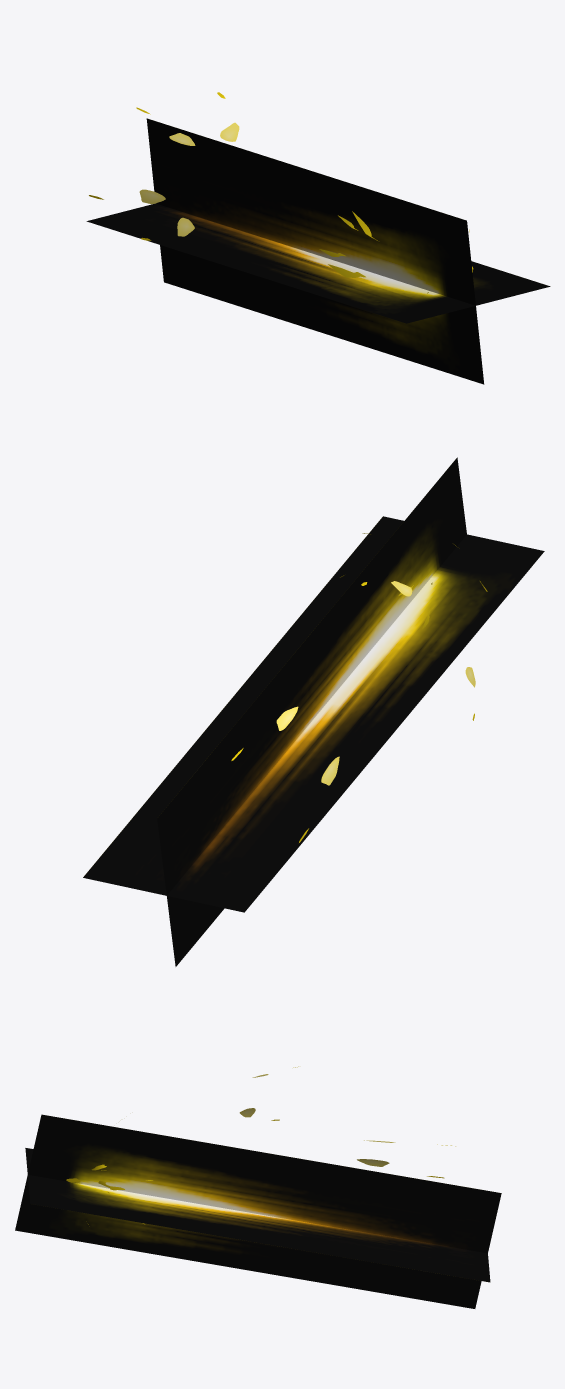
File: effect.FBX
The picture shows the model from 3 angles, top to bottom: view 1: azimuth 30°, elevation 25°; view 2: azimuth 150°, elevation 25°; view 3: azimuth 270°, elevation 25°; orthographic projection. The views are drawn at different scales.
Visible parts, largest first — view 1: 001, 002; view 2: 001, 002; view 3: 001, 002.
Part boxes in pixels (<box>): 001: <box>86,118,550,384</box>; 002: <box>89,92,473,293</box>; 001: <box>83,457,544,966</box>; 002: <box>231,533,487,842</box>; 001: <box>15,1114,501,1308</box>; 002: <box>66,1066,455,1224</box>.
Size of the model in its own units: 0.9653 by 0.9423 by 1.6.
1 material, 1 textured.
